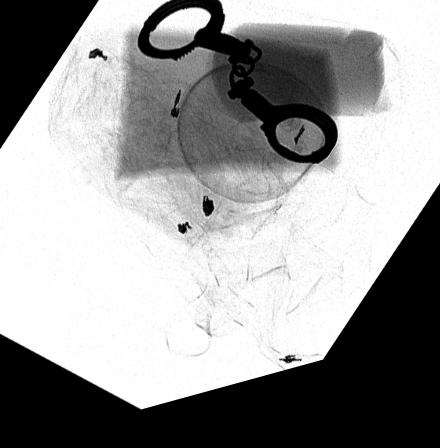HandCuffs: (136, 2, 336, 180)
